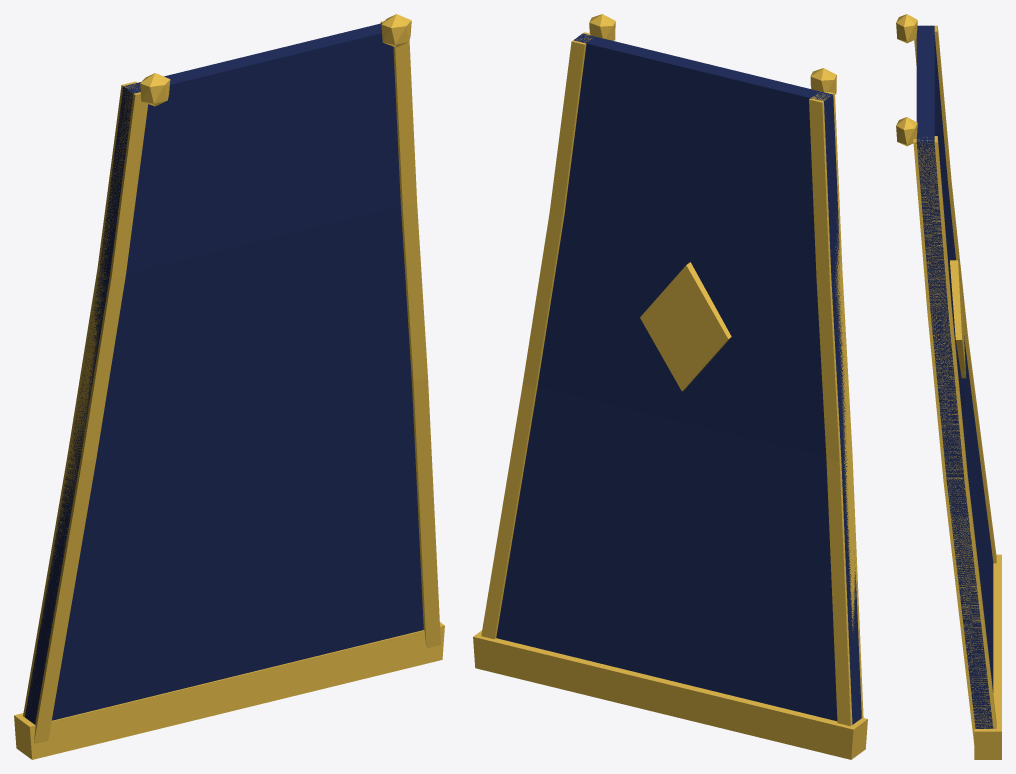
The model's file is gear_cape_quest.glb.
3 views of the same model, side by side, from view 1: azimuth 30°, elevation 25°; view 2: azimuth 150°, elevation 25°; view 3: azimuth 270°, elevation 25° (orthographic). The views are drawn at different scales.
Parts seen in each view (by area): view 1: gear_cape_quest; view 2: gear_cape_quest; view 3: gear_cape_quest.
Part boxes in pixels (x1,y1,x2,y2): gear_cape_quest: (14, 14, 444, 759); gear_cape_quest: (473, 14, 867, 759); gear_cape_quest: (896, 14, 1001, 759).
Size of the model in its own units: 0.516 by 0.825 by 0.1304.
